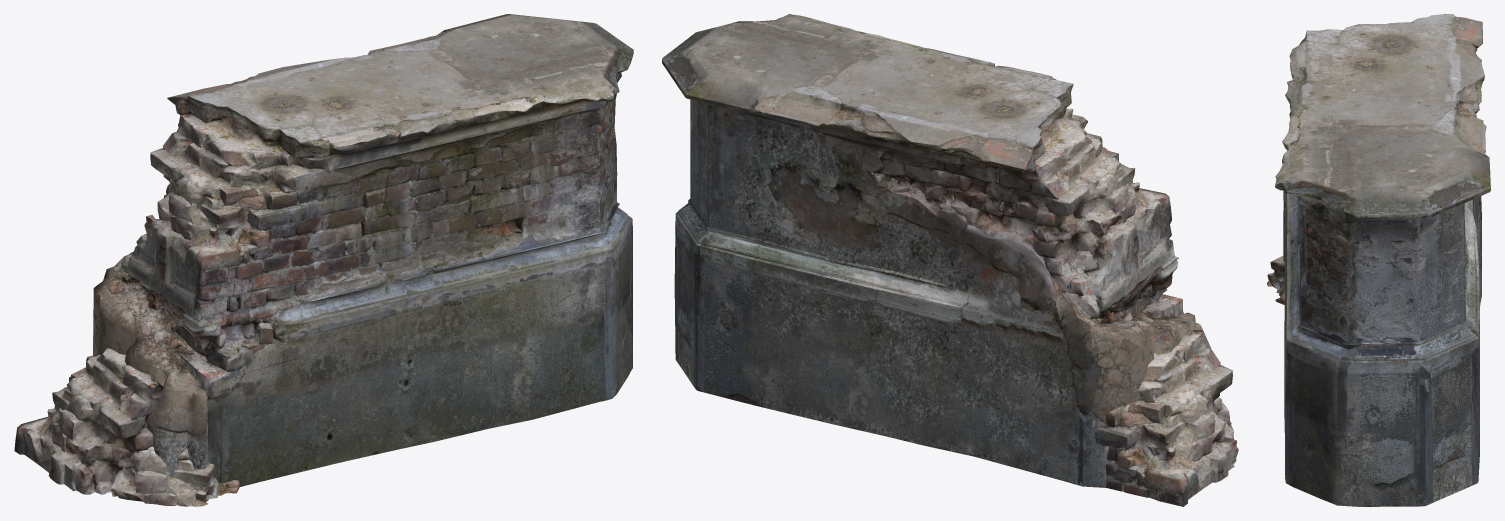
The model's file is SM_ChapelWall_06_01.fbx.
3 views of the same model, side by side, from view 1: azimuth 30°, elevation 25°; view 2: azimuth 150°, elevation 25°; view 3: azimuth 270°, elevation 25° (orthographic). The views are drawn at different scales.
Parts seen in each view (by area): view 1: sm_ChapelWall_06_01_LOD0; view 2: sm_ChapelWall_06_01_LOD0; view 3: sm_ChapelWall_06_01_LOD0.
Part boxes in pixels (x1=…): sm_ChapelWall_06_01_LOD0: x1=14, y1=14, x2=633, y2=506; sm_ChapelWall_06_01_LOD0: x1=662, y1=14, x2=1238, y2=506; sm_ChapelWall_06_01_LOD0: x1=1267, y1=14, x2=1490, y2=506.
Size of the model in its own units: 133 by 372 by 205.
